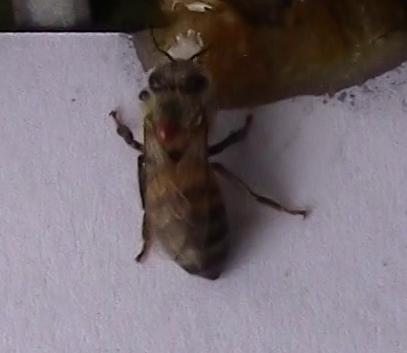Varroa destructor: (154, 114, 186, 144)
